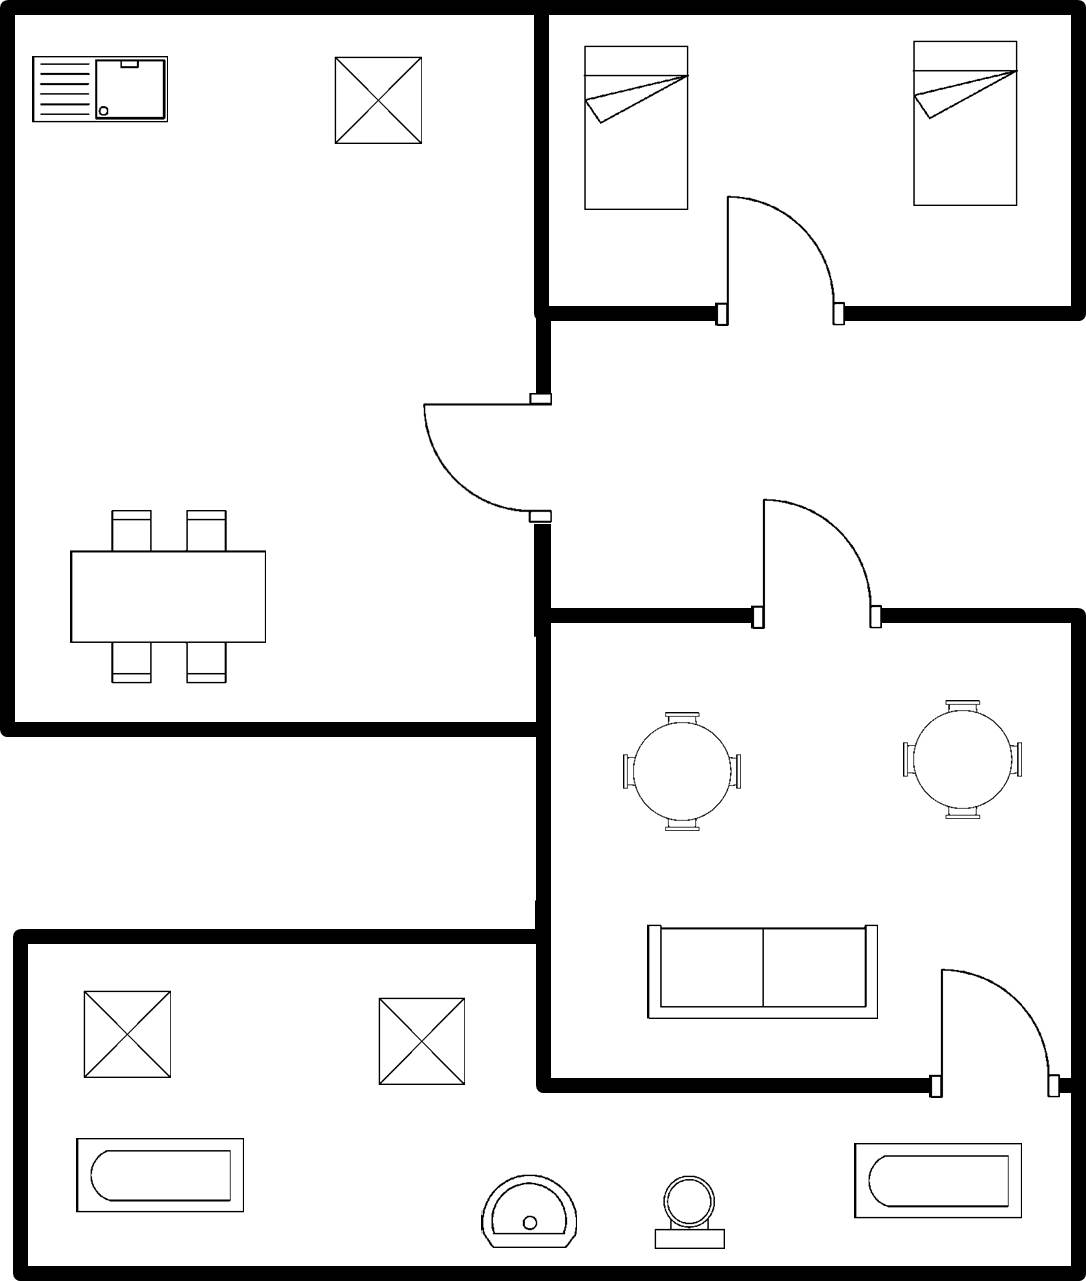bed: (905, 31, 1032, 219), (574, 38, 700, 220)
coffee_table: (323, 44, 434, 153), (368, 986, 475, 1094), (72, 980, 178, 1086)
dining_table: (60, 499, 279, 693)
large_sink: (642, 1168, 735, 1260)
large_sofa: (630, 915, 888, 1029)
round_table: (889, 690, 1034, 828), (610, 704, 750, 839)
sink: (23, 48, 183, 130)
small_sink: (468, 1165, 585, 1255)
tub: (843, 1130, 1032, 1230), (68, 1130, 255, 1223)
